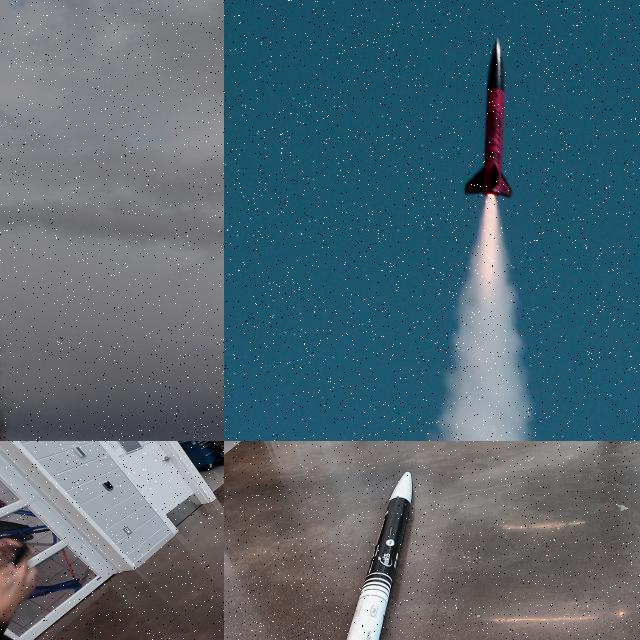Rocket: (345, 471, 412, 640), (462, 36, 515, 200)
